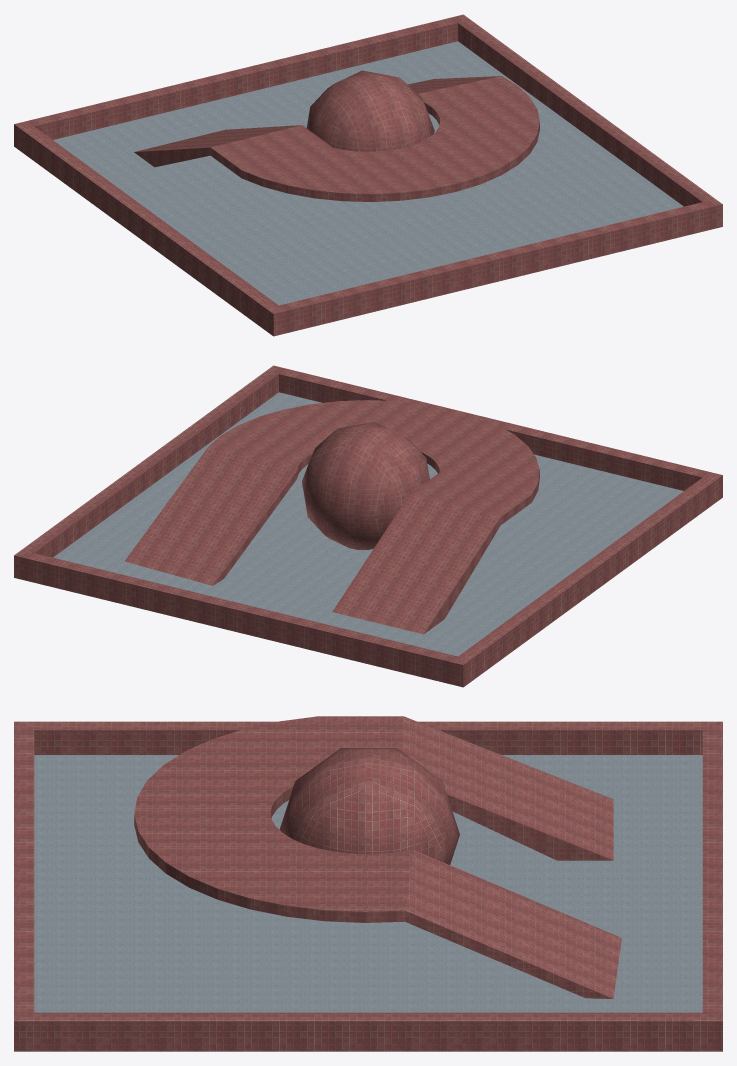
The model's file is bowl.fbx.
3 renders of one model, top to bottom at view 1: azimuth 30°, elevation 25°; view 2: azimuth 150°, elevation 25°; view 3: azimuth 270°, elevation 25°, orthographic. The views are drawn at different scales.
Visible parts, largest first — view 1: Cube; view 2: Cube; view 3: Cube.
Part boxes in pixels (left/top/right/bottom): Cube: left=14, top=14, right=722, bottom=336; Cube: left=14, top=365, right=722, bottom=687; Cube: left=14, top=716, right=722, bottom=1051.
Size of the model in its own units: 47.47 by 12.8 by 47.47.
2 materials, 2 textured.
